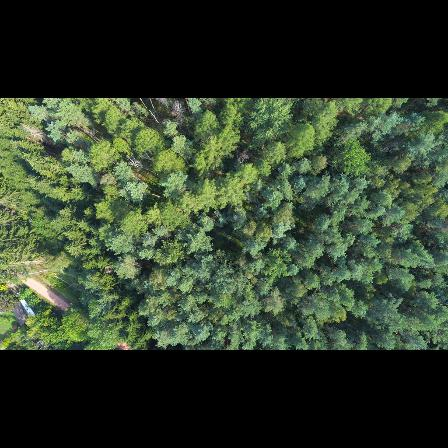Dead: (21, 120, 46, 140), (168, 99, 187, 122), (125, 153, 145, 173), (234, 149, 250, 168)
